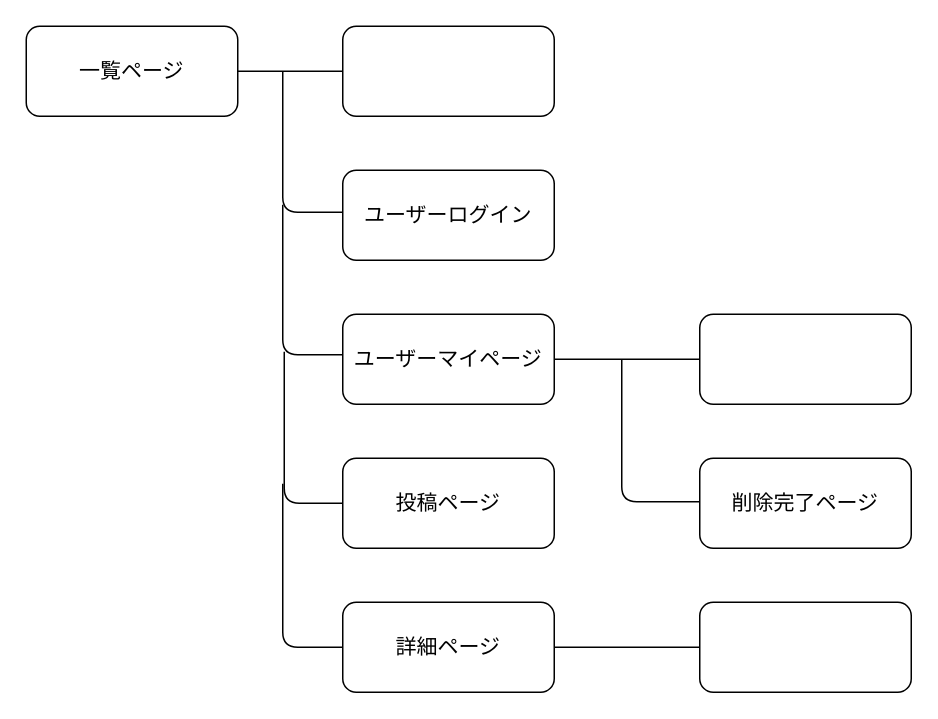
The diagram is 938 pixels wide and 719 high, and some of its shapes have lost their labels. The box of each missing label's shape, as (x1, y1, x2, y2) in pixels:
コメントページ: (698, 601, 911, 692)
ユーザー新規登録: (341, 25, 554, 116)
編集ページ: (698, 313, 911, 404)
